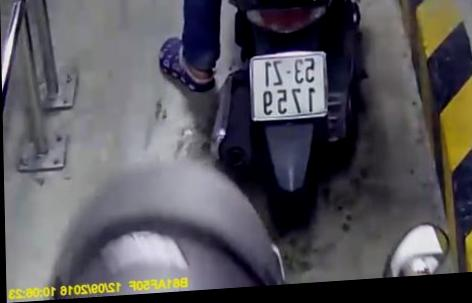License_Plate: (240, 46, 336, 128)
